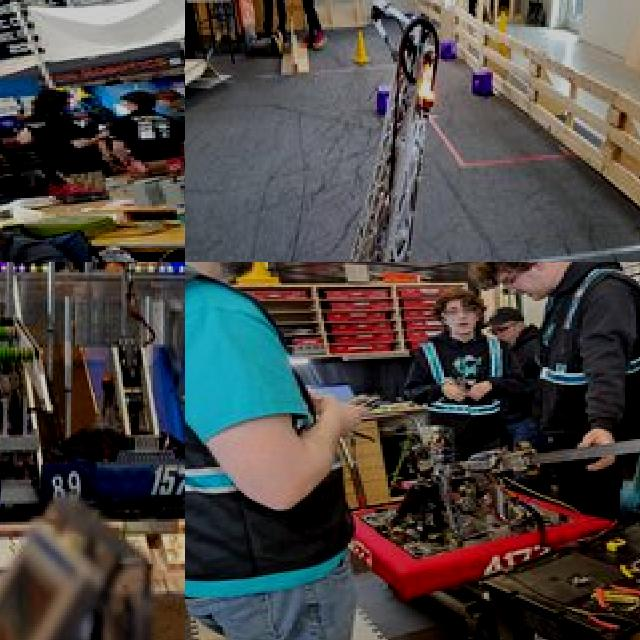FRC-Robots: (241, 23, 529, 262), (336, 429, 624, 573), (0, 97, 185, 262), (51, 306, 185, 516), (0, 283, 46, 545)
